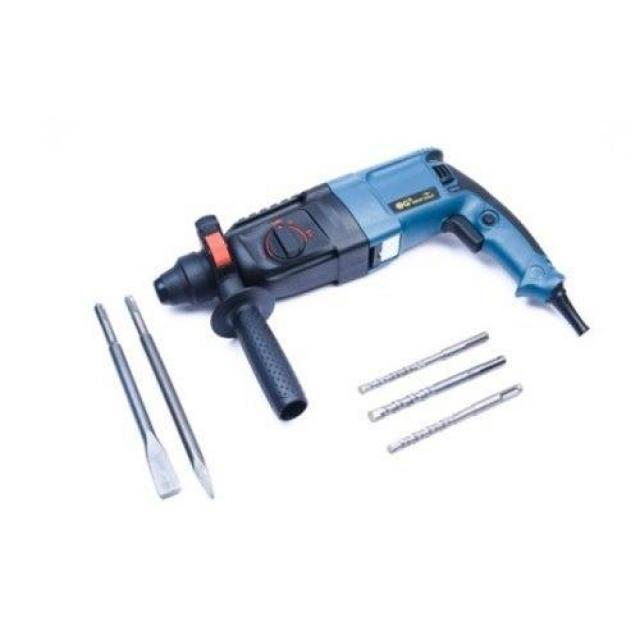drill: (152, 146, 590, 424)
